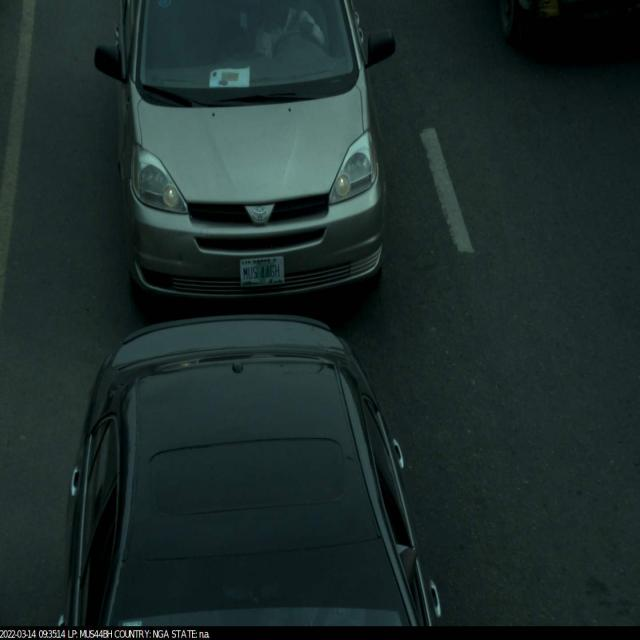windshield: (127, 0, 361, 111)
